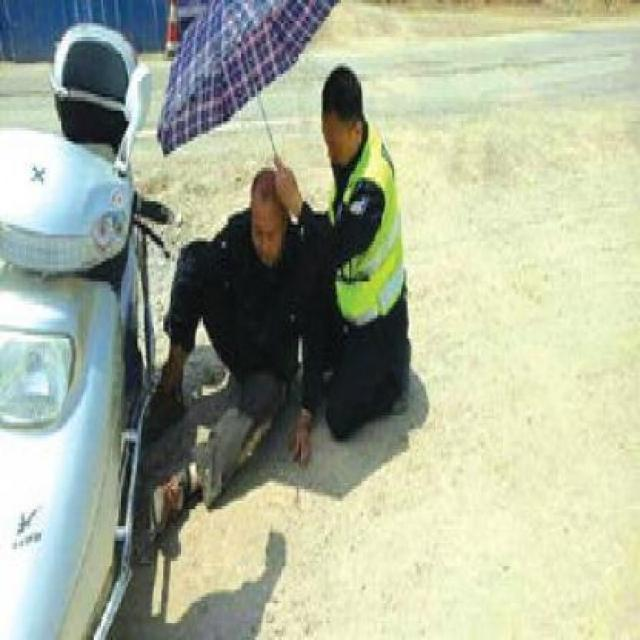fall: (133, 144, 319, 542)
